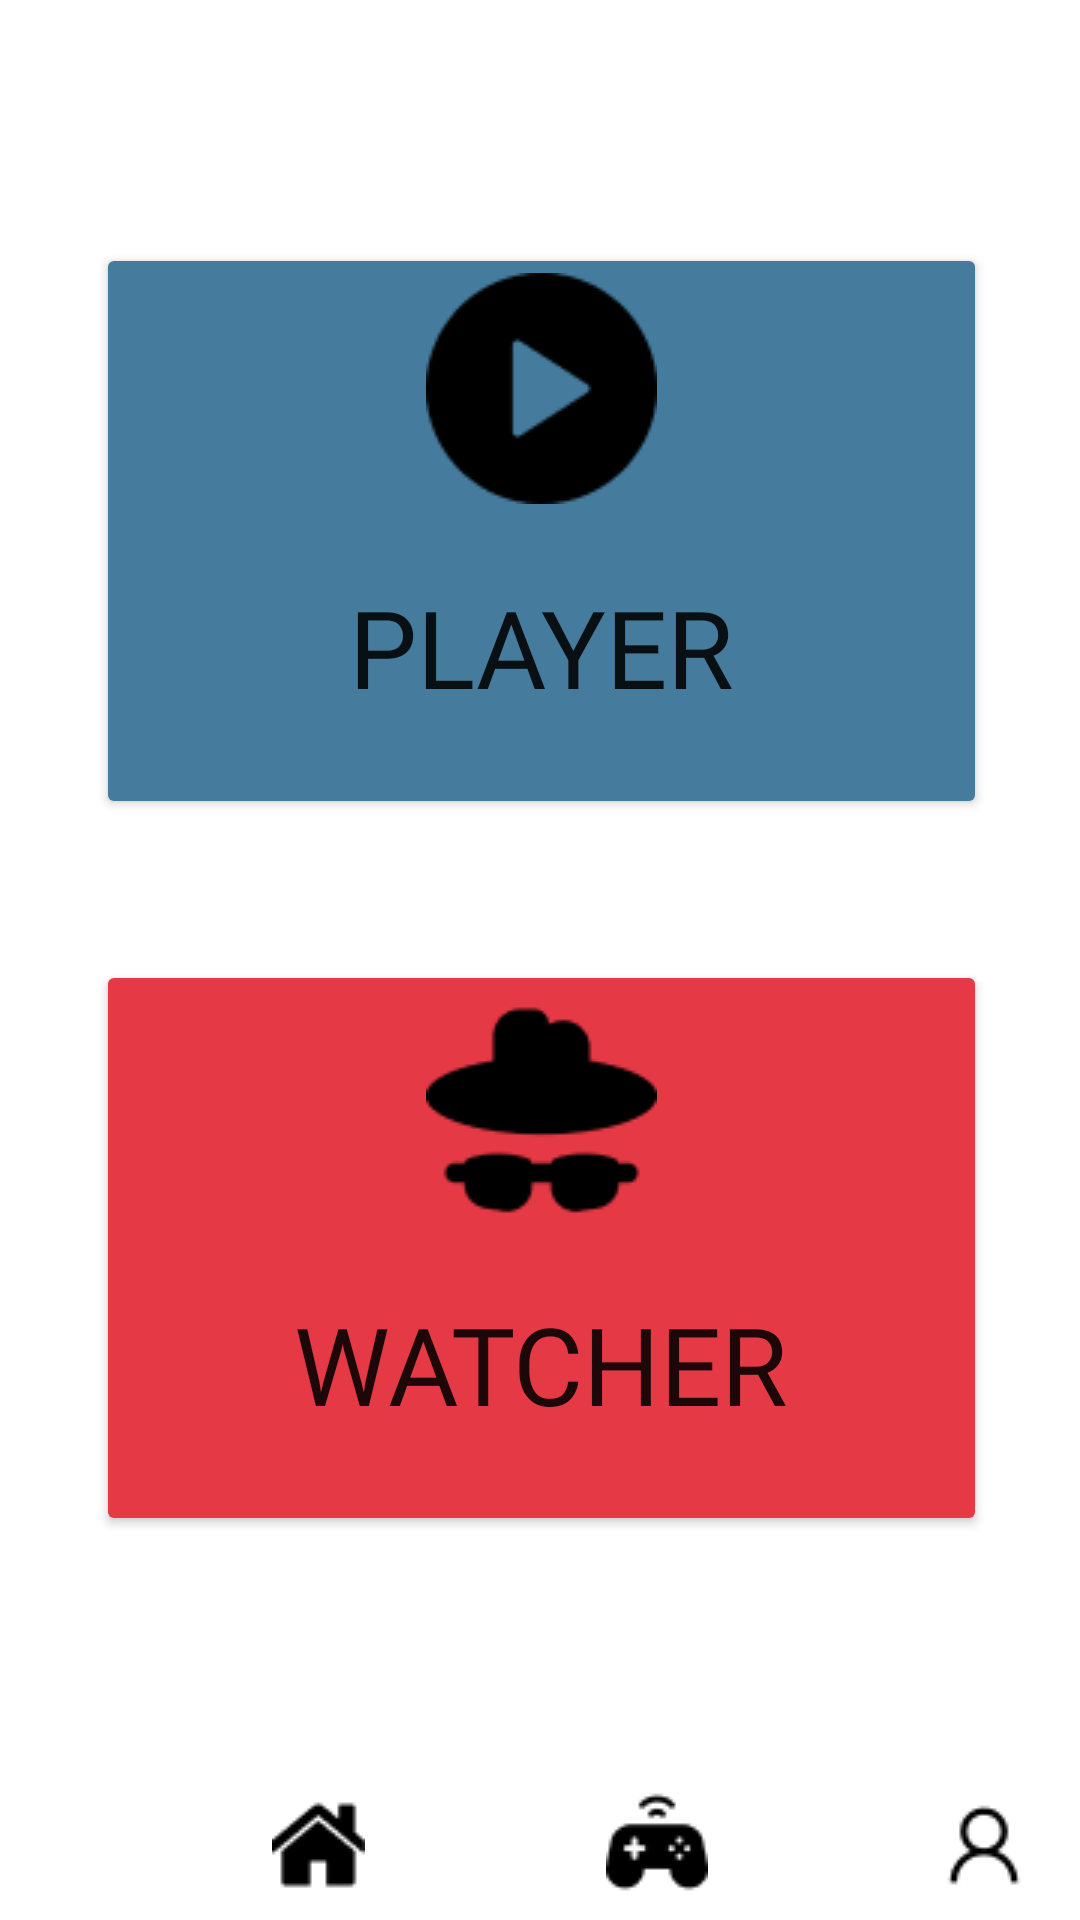

Icons on this 1080px x 1920px Android screen, each with the point to tap as point (x, y):
home: point (318, 1845)
user: point (984, 1845)
